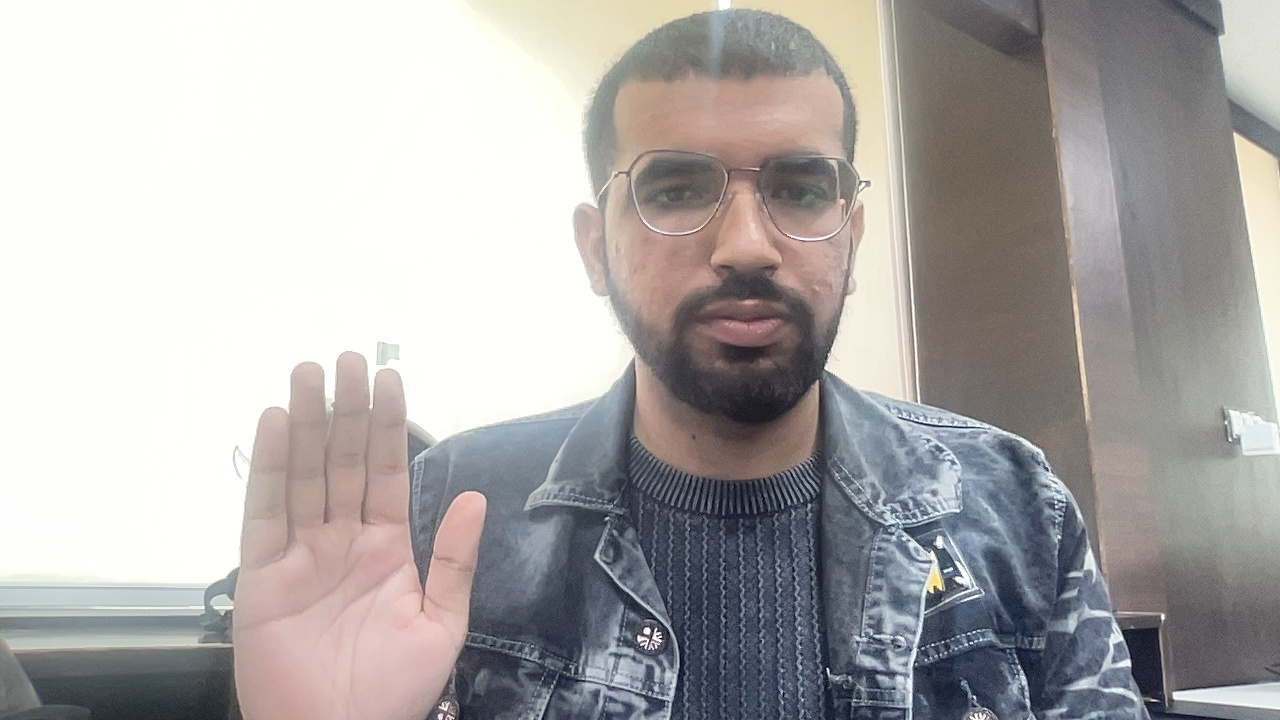Hello: (177, 314, 510, 720)
